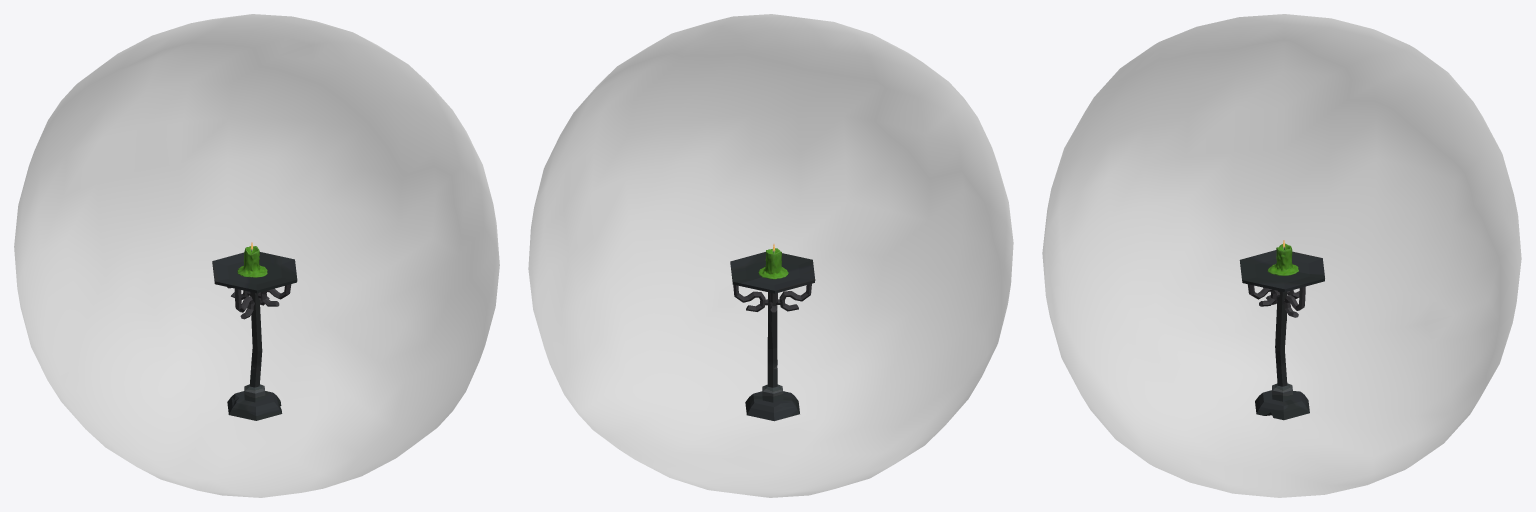
The model's file is ecclesiasticalShortComplete.glb.
3 views of the same model, side by side, from view 1: azimuth 30°, elevation 25°; view 2: azimuth 150°, elevation 25°; view 3: azimuth 270°, elevation 25° (orthographic).
Parts seen in each view (by area): view 1: Room, Candle_Stand, XBase; view 2: Room, Candle_Stand, XBase; view 3: Room, Candle_Stand, XBase.
Part boxes in pixels (box(x1,y1,x2,y2)): Room: box(14, 14, 499, 497); Candle_Stand: box(212, 252, 297, 420); XBase: box(237, 246, 267, 277); Room: box(528, 14, 1013, 497); Candle_Stand: box(730, 252, 815, 421); XBase: box(758, 248, 788, 279); Room: box(1042, 14, 1521, 497); Candle_Stand: box(1239, 250, 1324, 420); XBase: box(1267, 243, 1298, 275).
Size of the model in its own units: 24.43 by 24.43 by 24.44.
Materials: 4 (3 with a texture image).
